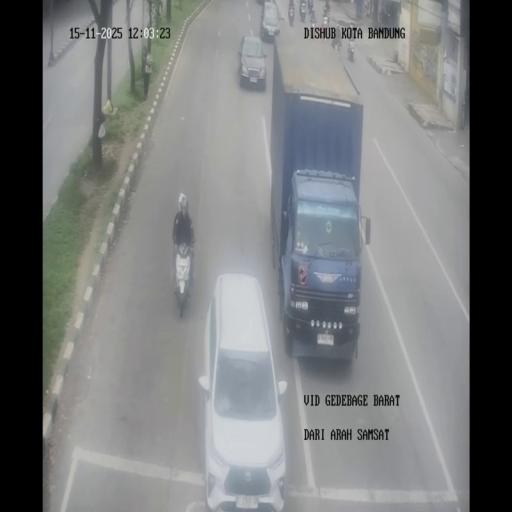car: (199, 275, 288, 510), (237, 34, 267, 90), (259, 0, 280, 42)
motorcycle: (172, 236, 194, 314), (332, 36, 342, 60), (320, 18, 330, 41), (308, 6, 317, 25), (299, 0, 306, 22), (288, 6, 295, 26), (362, 0, 370, 17), (378, 7, 386, 23), (348, 42, 354, 62), (323, 0, 330, 14), (385, 10, 391, 26)
truck: (268, 37, 366, 361)
